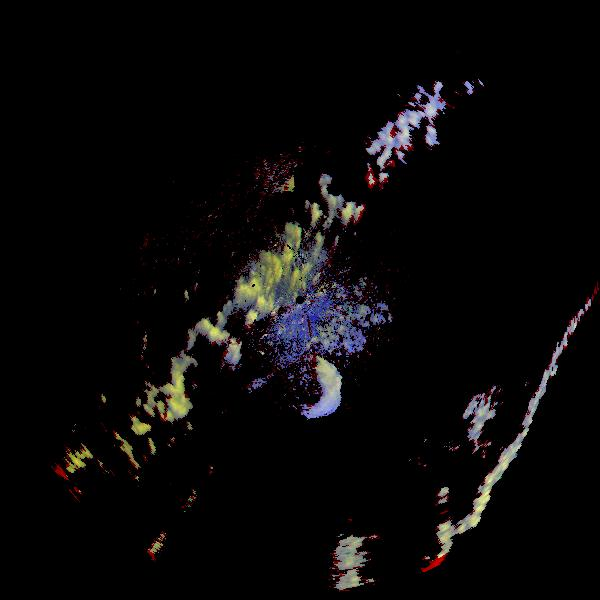roost: (276, 352, 348, 424), (253, 154, 301, 202)
